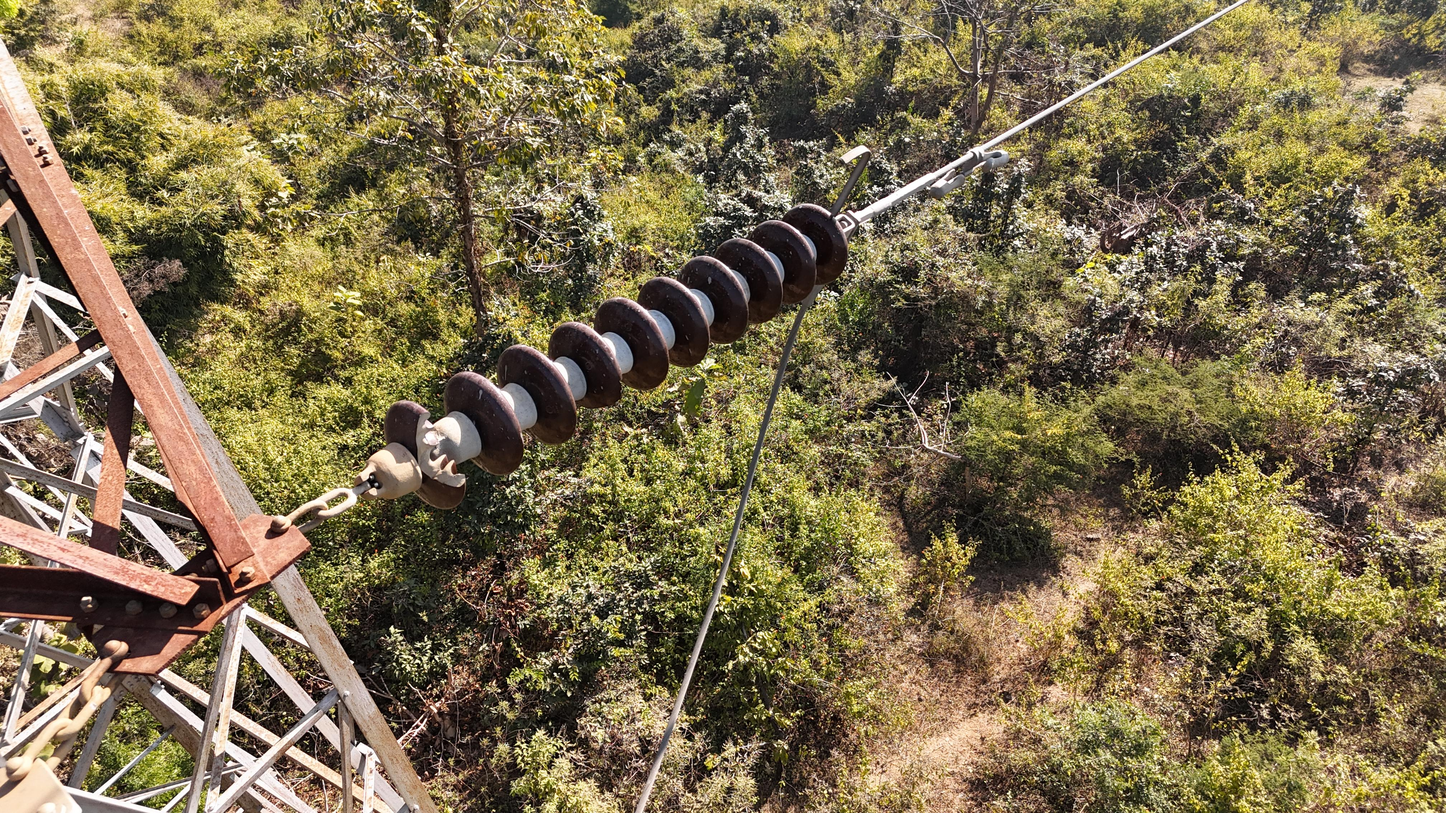broken_insulator: (373, 389, 469, 526)
